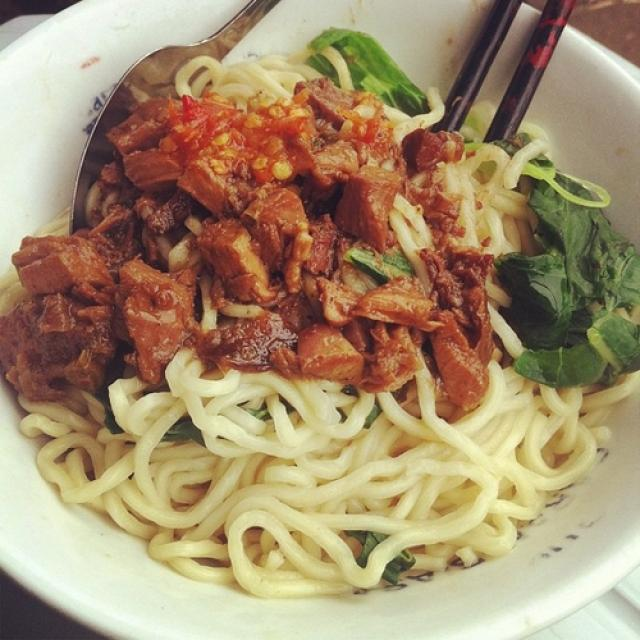面条主食: (8, 12, 612, 610)
